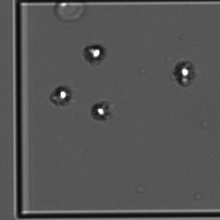Living Cell: (170, 57, 199, 90), (48, 82, 75, 109), (81, 41, 108, 66), (87, 99, 113, 124)
